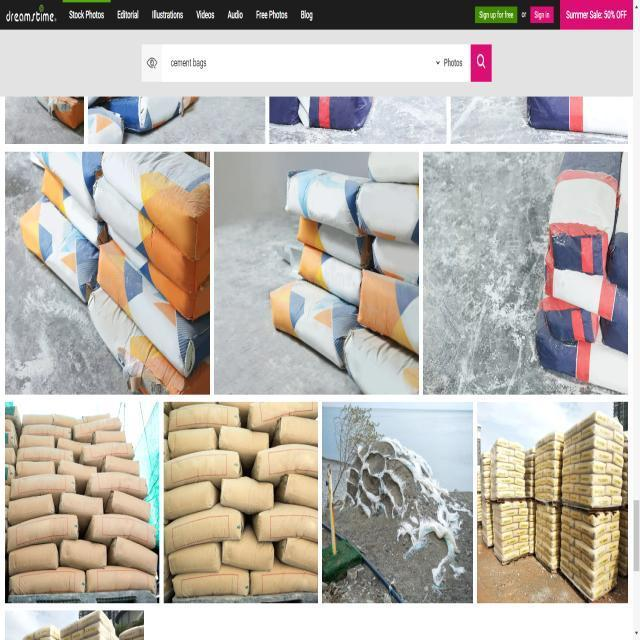gunny_bag: (97, 238, 210, 376), (85, 284, 210, 394), (94, 177, 211, 291), (102, 154, 210, 260), (106, 223, 210, 325), (538, 288, 628, 396), (20, 194, 101, 306), (270, 277, 361, 374), (548, 156, 621, 274), (284, 168, 372, 238), (544, 252, 628, 324), (356, 268, 419, 358), (32, 154, 104, 226), (343, 328, 419, 394), (355, 180, 419, 246), (296, 216, 374, 270), (164, 506, 244, 554), (164, 449, 242, 488), (8, 513, 78, 553), (221, 524, 274, 572), (252, 504, 318, 542), (85, 514, 156, 549), (256, 443, 318, 482), (370, 238, 420, 286), (172, 566, 250, 596), (10, 565, 86, 594), (220, 476, 274, 515), (168, 404, 241, 432), (165, 480, 216, 520), (250, 564, 318, 594), (86, 566, 158, 594), (168, 540, 220, 578), (84, 472, 148, 501), (9, 474, 78, 499), (367, 152, 419, 185), (58, 537, 107, 568), (79, 442, 134, 469), (218, 426, 269, 452), (72, 417, 122, 442), (16, 446, 75, 466), (59, 491, 104, 517), (575, 537, 607, 561), (582, 423, 614, 441), (54, 412, 84, 430), (581, 448, 613, 464), (576, 520, 606, 537), (580, 472, 612, 486), (580, 494, 612, 507), (574, 462, 606, 474), (22, 415, 54, 426), (543, 430, 564, 446), (84, 410, 110, 422), (543, 525, 562, 541), (541, 554, 560, 570), (560, 530, 575, 548), (496, 536, 518, 548), (568, 562, 582, 580), (498, 522, 518, 534), (494, 446, 514, 457), (543, 484, 562, 495), (543, 512, 563, 522), (498, 508, 518, 518), (490, 492, 515, 500), (562, 444, 576, 458), (543, 468, 562, 478), (496, 476, 514, 484), (514, 464, 526, 474), (520, 546, 530, 556), (518, 521, 529, 530), (519, 534, 529, 543), (514, 490, 526, 497), (540, 476, 547, 484)
